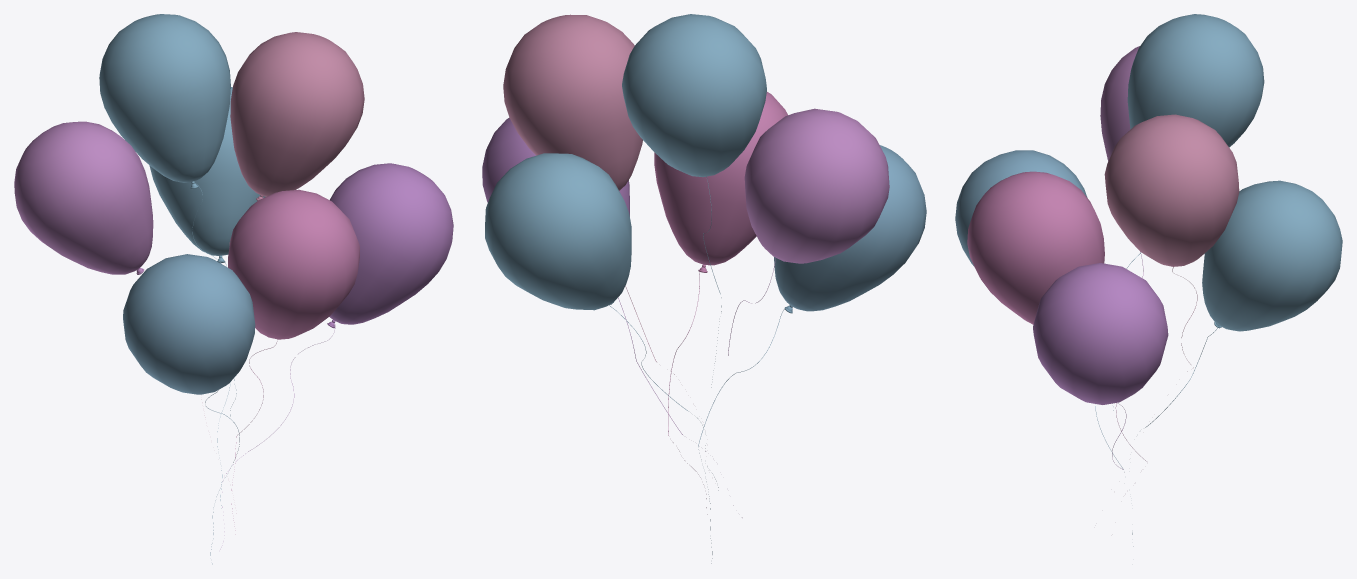
Rendered from balloons.glb.
3 views of the same model, side by side, from view 1: azimuth 30°, elevation 25°; view 2: azimuth 150°, elevation 25°; view 3: azimuth 270°, elevation 25° (orthographic). The views are drawn at different scales.
Parts seen in each view (by area): view 1: node-0.001, node-0.003, node-0.005, node-0.004, node-0, node-0.002, node-0.006; view 2: node-0.006, node-0.001, node-0.005, node-0.003, node-0, node-0.004, node-0.002; view 3: node-0.006, node-0.003, node-0.002, node-0.004, node-0.001, node-0, node-0.005.
Boxes of the visible parts, x1,y1,x2,y2 form: node-0.001: (99, 14, 236, 416); node-0.003: (201, 32, 364, 513); node-0.005: (14, 121, 153, 274); node-0.004: (228, 189, 359, 534); node-0: (123, 254, 255, 564); node-0.002: (220, 163, 453, 549); node-0.006: (149, 87, 265, 508); node-0.006: (485, 153, 718, 490); node-0.001: (622, 14, 766, 387); node-0.005: (728, 108, 889, 355); node-0.003: (503, 14, 674, 374); node-0: (698, 145, 926, 563); node-0.004: (654, 92, 787, 514); node-0.002: (482, 117, 742, 517); node-0.006: (1145, 180, 1342, 427); node-0.003: (1104, 114, 1239, 371); node-0.002: (1033, 263, 1168, 469); node-0.004: (967, 171, 1146, 461); node-0.001: (1113, 14, 1264, 410); node-0: (955, 150, 1133, 546); node-0.005: (1100, 46, 1143, 277).
Bounding box in the file's own units: 0.8992 × 1.16 × 0.7593.
